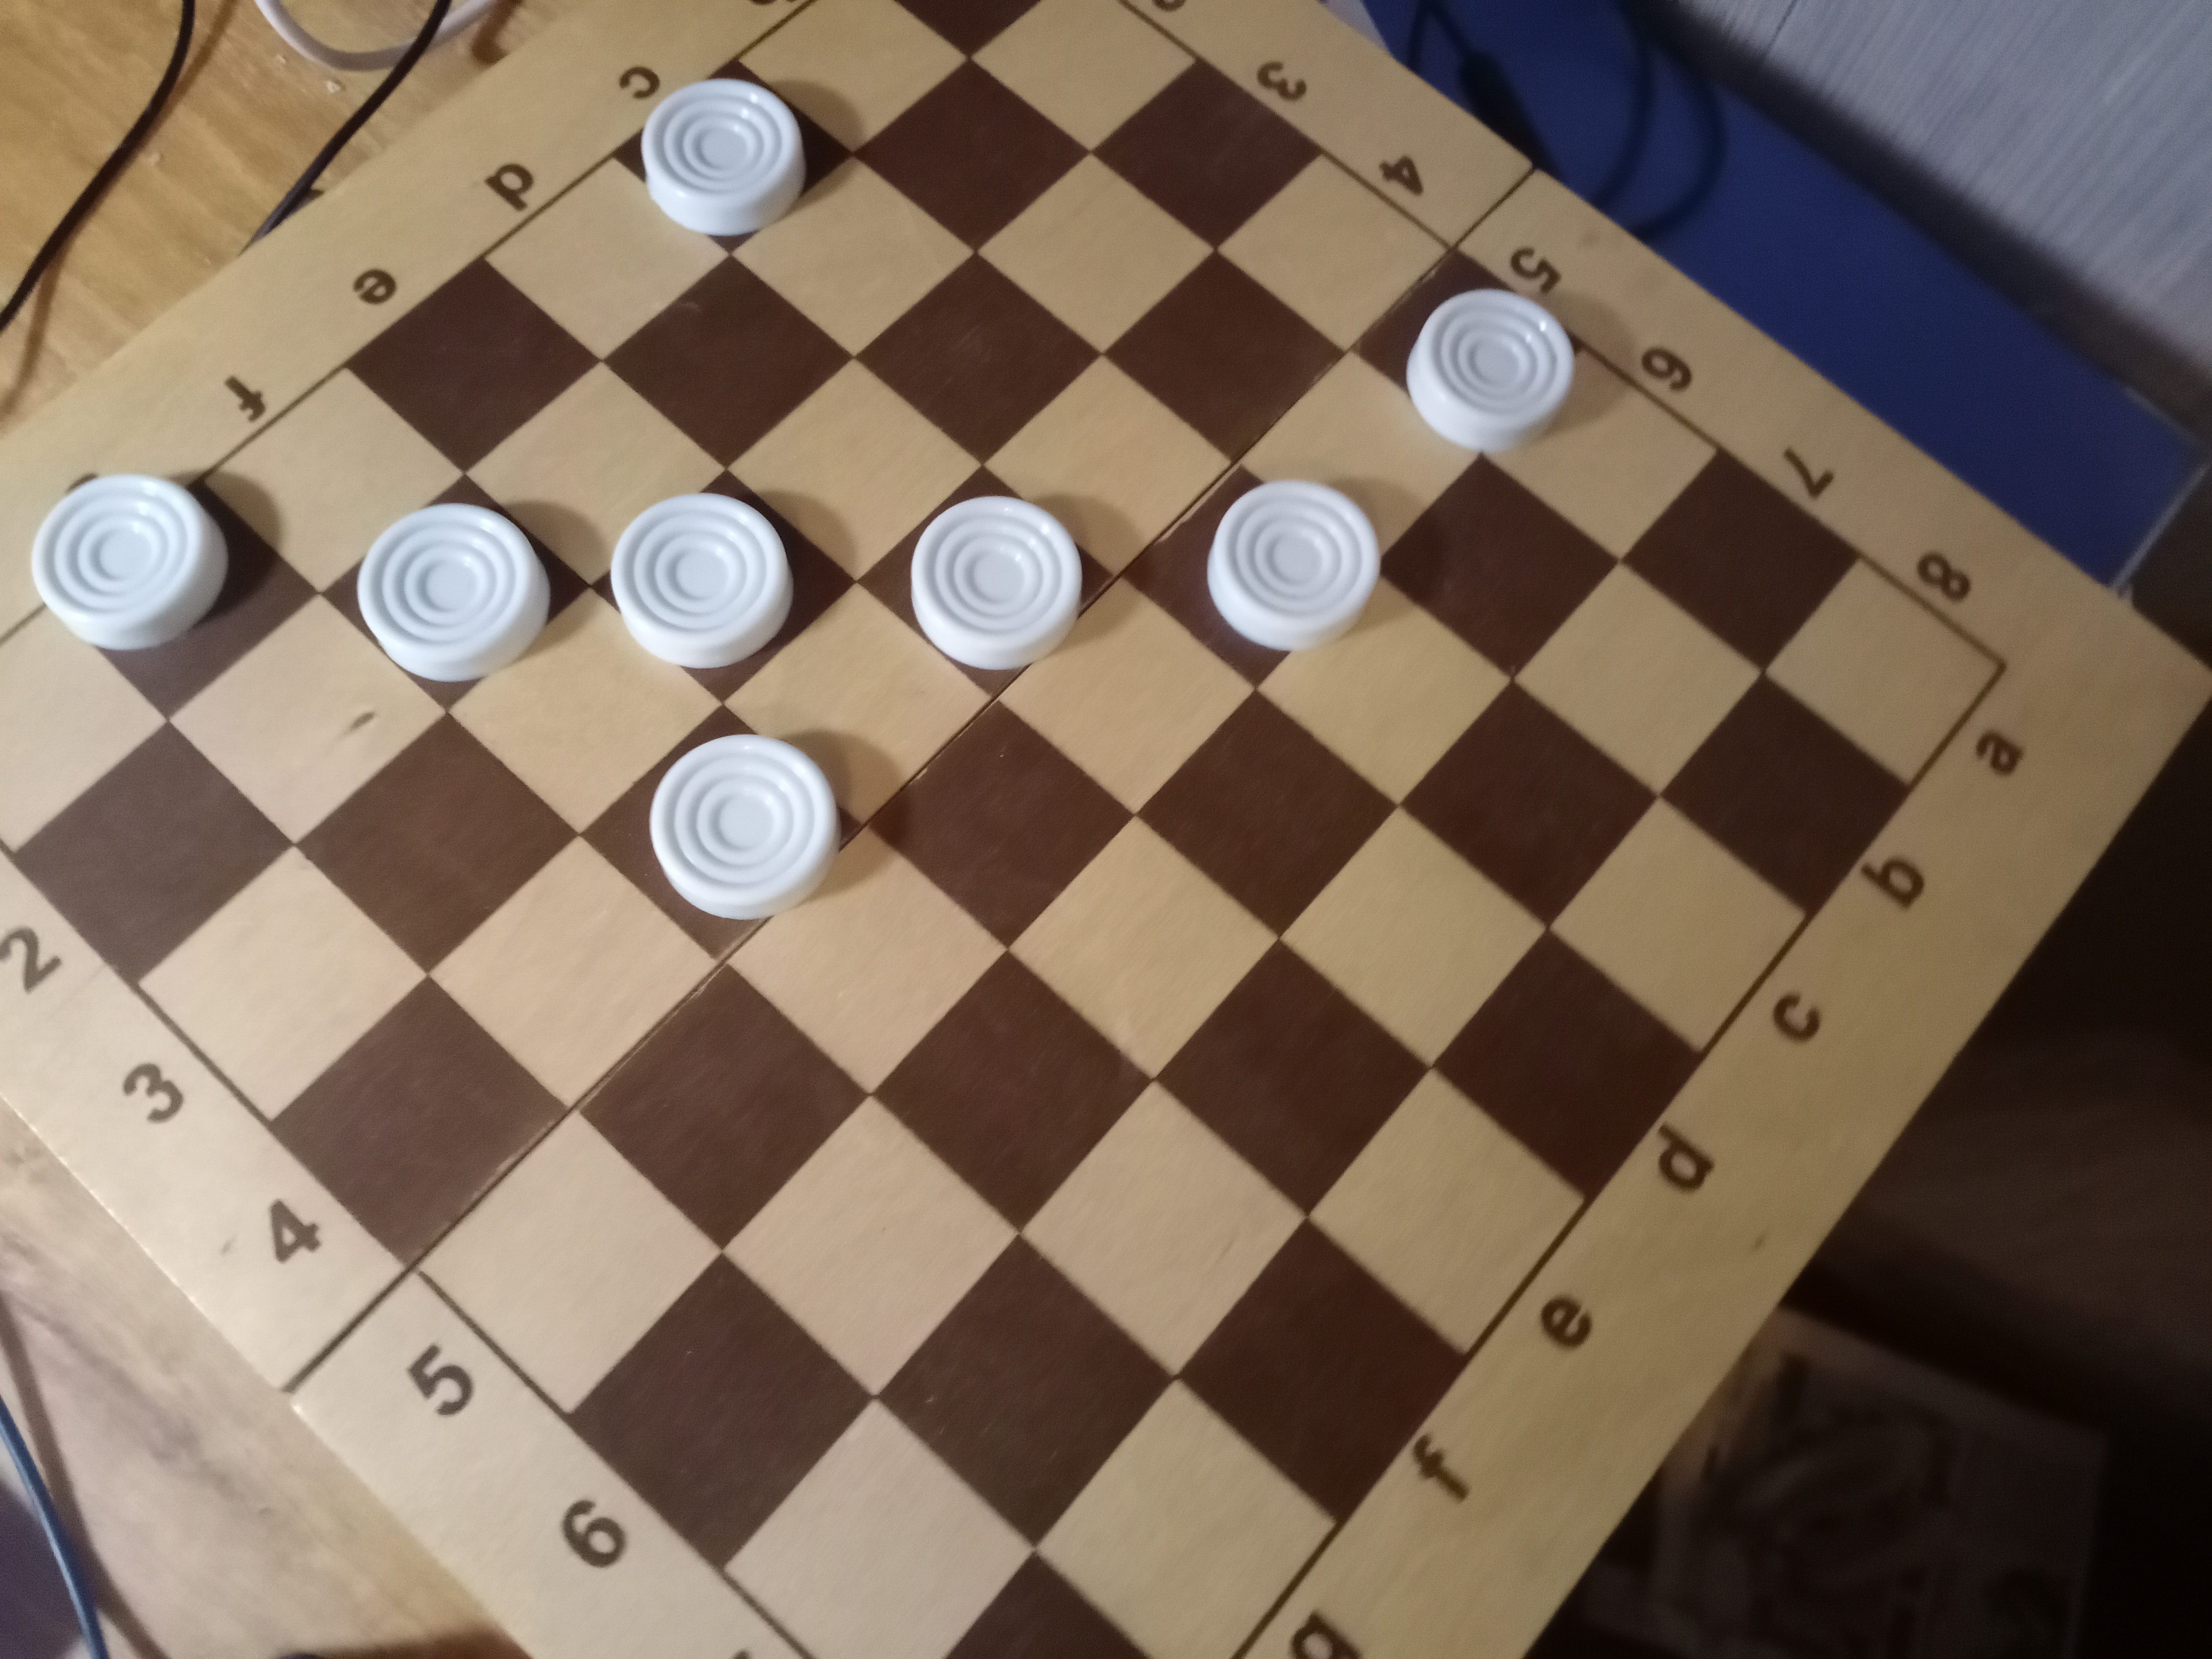White_Draught: (580, 704, 864, 964), (31, 476, 320, 721), (322, 472, 590, 714), (589, 467, 859, 708), (859, 467, 1116, 699), (1118, 465, 1381, 692), (1353, 253, 1585, 455), (613, 59, 852, 254)
